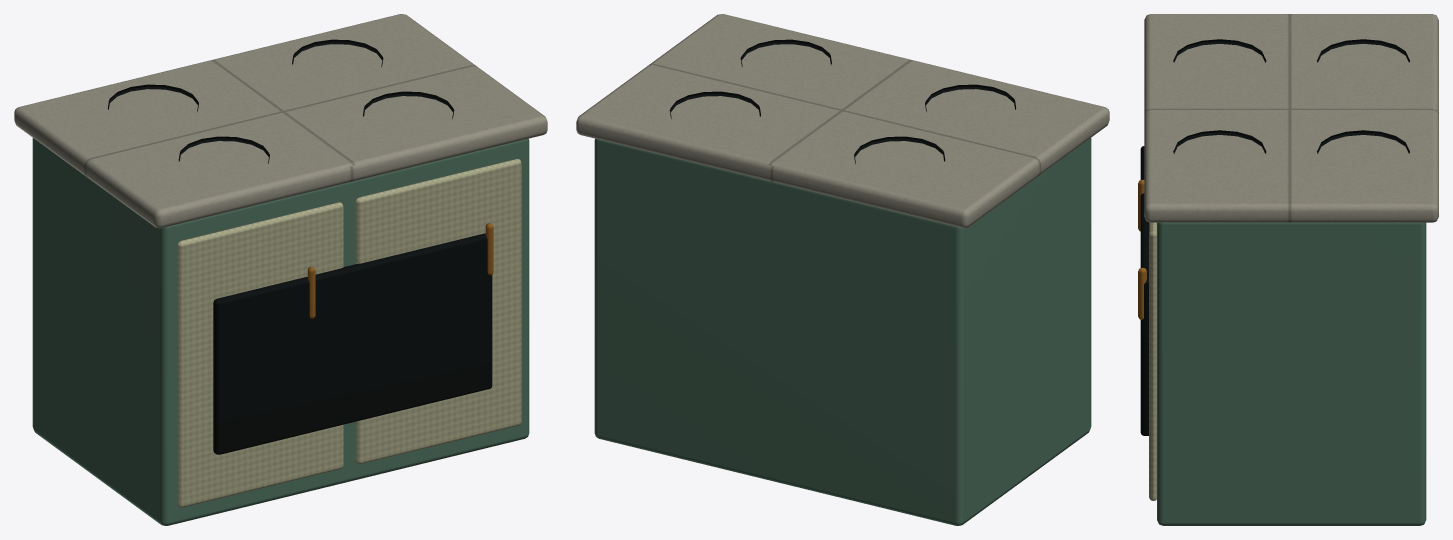
File: cooker.glb
The picture shows the model from 3 angles, left to right: view 1: azimuth 30°, elevation 25°; view 2: azimuth 150°, elevation 25°; view 3: azimuth 270°, elevation 25°; orthographic projection.
Parts seen in each view (by area): view 1: V2_cooker_stone.005, V2_cooker_sage.005, V2_cooker_cloth.005, V2_cooker_dark.005, V2_cooker_brass.005; view 2: V2_cooker_sage.005, V2_cooker_stone.005, V2_cooker_dark.005; view 3: V2_cooker_sage.005, V2_cooker_stone.005, V2_cooker_dark.005, V2_cooker_cloth.005, V2_cooker_brass.005.
Part boxes in pixels (<box>): V2_cooker_stone.005: <box>14,14,547,228</box>; V2_cooker_sage.005: <box>32,138,529,525</box>; V2_cooker_cloth.005: <box>177,159,521,507</box>; V2_cooker_dark.005: <box>107,39,492,454</box>; V2_cooker_brass.005: <box>307,223,493,318</box>; V2_cooker_sage.005: <box>594,138,1091,525</box>; V2_cooker_stone.005: <box>576,14,1109,228</box>; V2_cooker_dark.005: <box>669,39,1016,163</box>; V2_cooker_sage.005: <box>1157,222,1426,525</box>; V2_cooker_stone.005: <box>1144,14,1438,222</box>; V2_cooker_dark.005: <box>1140,39,1409,435</box>; V2_cooker_cloth.005: <box>1149,222,1156,500</box>; V2_cooker_brass.005: <box>1138,179,1146,319</box>.
Size of the model in its own units: 1.28 by 1.03 by 0.8375.
Materials: 5 (2 with a texture image).
